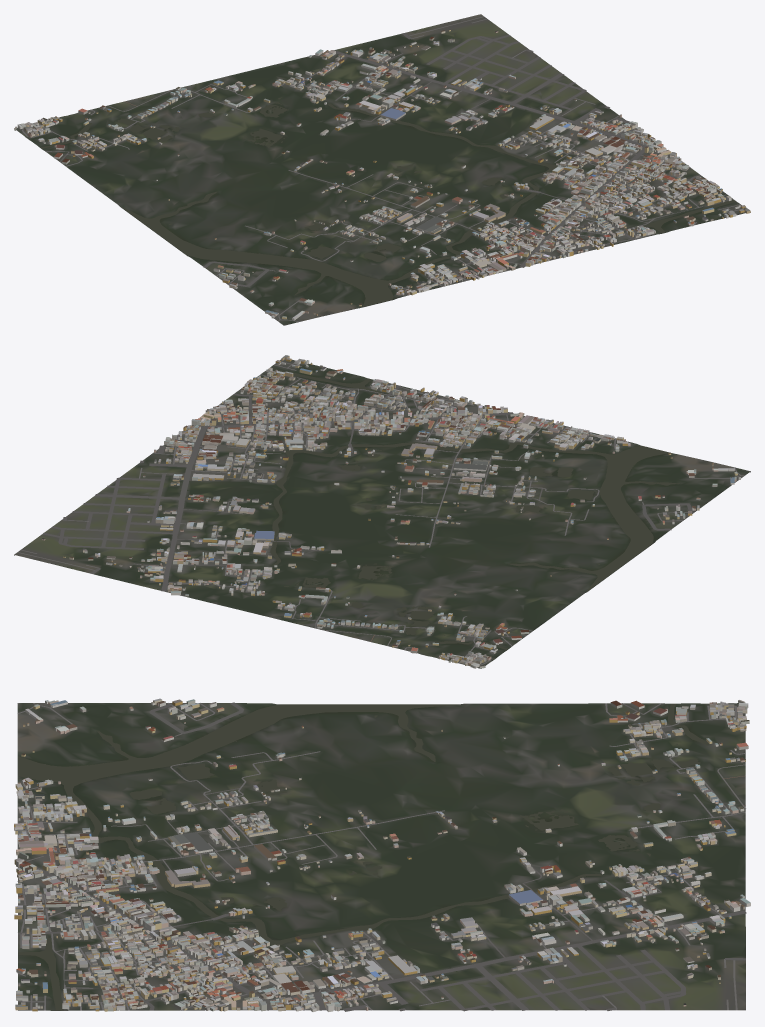
3 views of the same model, one above another, from view 1: azimuth 30°, elevation 25°; view 2: azimuth 150°, elevation 25°; view 3: azimuth 270°, elevation 25° (orthographic). The views are drawn at different scales.
Visible parts, largest first — view 1: ground, buildings, roads, water; view 2: ground, buildings, roads, water; view 3: ground, buildings, roads, water.
Part boxes in pixels (bbox=[...]): ground: bbox=[14, 14, 750, 325]; buildings: bbox=[14, 29, 750, 320]; roads: bbox=[22, 16, 744, 325]; water: bbox=[26, 97, 735, 306]; ground: bbox=[14, 359, 750, 668]; buildings: bbox=[42, 355, 740, 668]; roads: bbox=[17, 361, 750, 665]; water: bbox=[270, 368, 679, 660]; ground: bbox=[17, 703, 745, 1010]; buildings: bbox=[14, 698, 750, 1011]; roads: bbox=[17, 702, 746, 1011]; water: bbox=[18, 703, 744, 1010].
Bounding box in the file's own units: 1414 × 20.64 × 1418.
